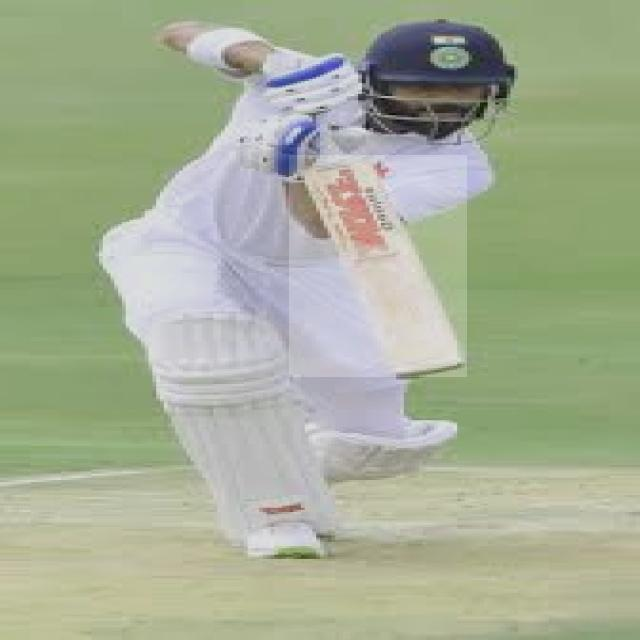bat: (290, 159, 468, 378)
toe: (389, 360, 463, 383)
